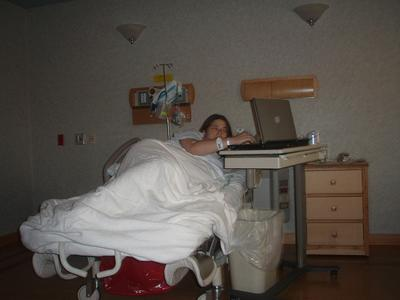person: (134, 113, 260, 178)
